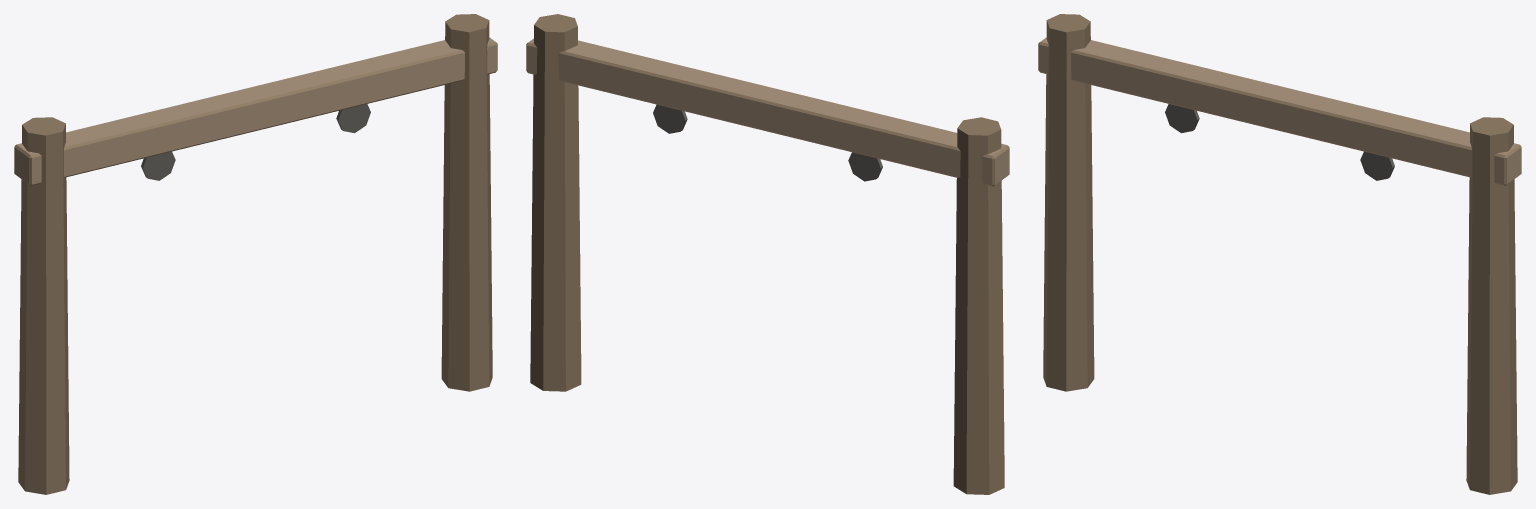
File: hitching_post.glb
The picture shows the model from 3 angles, left to right: view 1: azimuth 30°, elevation 25°; view 2: azimuth 150°, elevation 25°; view 3: azimuth 330°, elevation 25°; orthographic projection.
Visible parts, largest first — view 1: Hitching_Post; view 2: Hitching_Post; view 3: Hitching_Post.
Boxes of the visible parts, box(x1,y1,x2,y2) form: Hitching_Post: box(14, 14, 497, 494); Hitching_Post: box(526, 14, 1009, 494); Hitching_Post: box(1038, 14, 1521, 494).
Size of the model in its own units: 1.44 by 1.05 by 0.1331.
